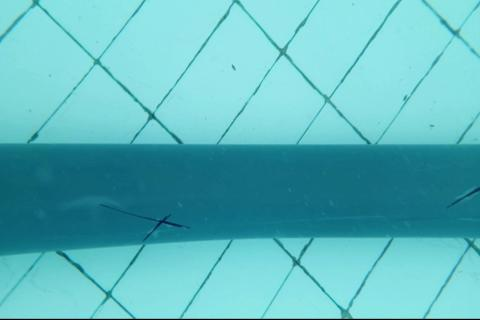keretakan: (99, 201, 192, 241), (444, 186, 479, 210)
